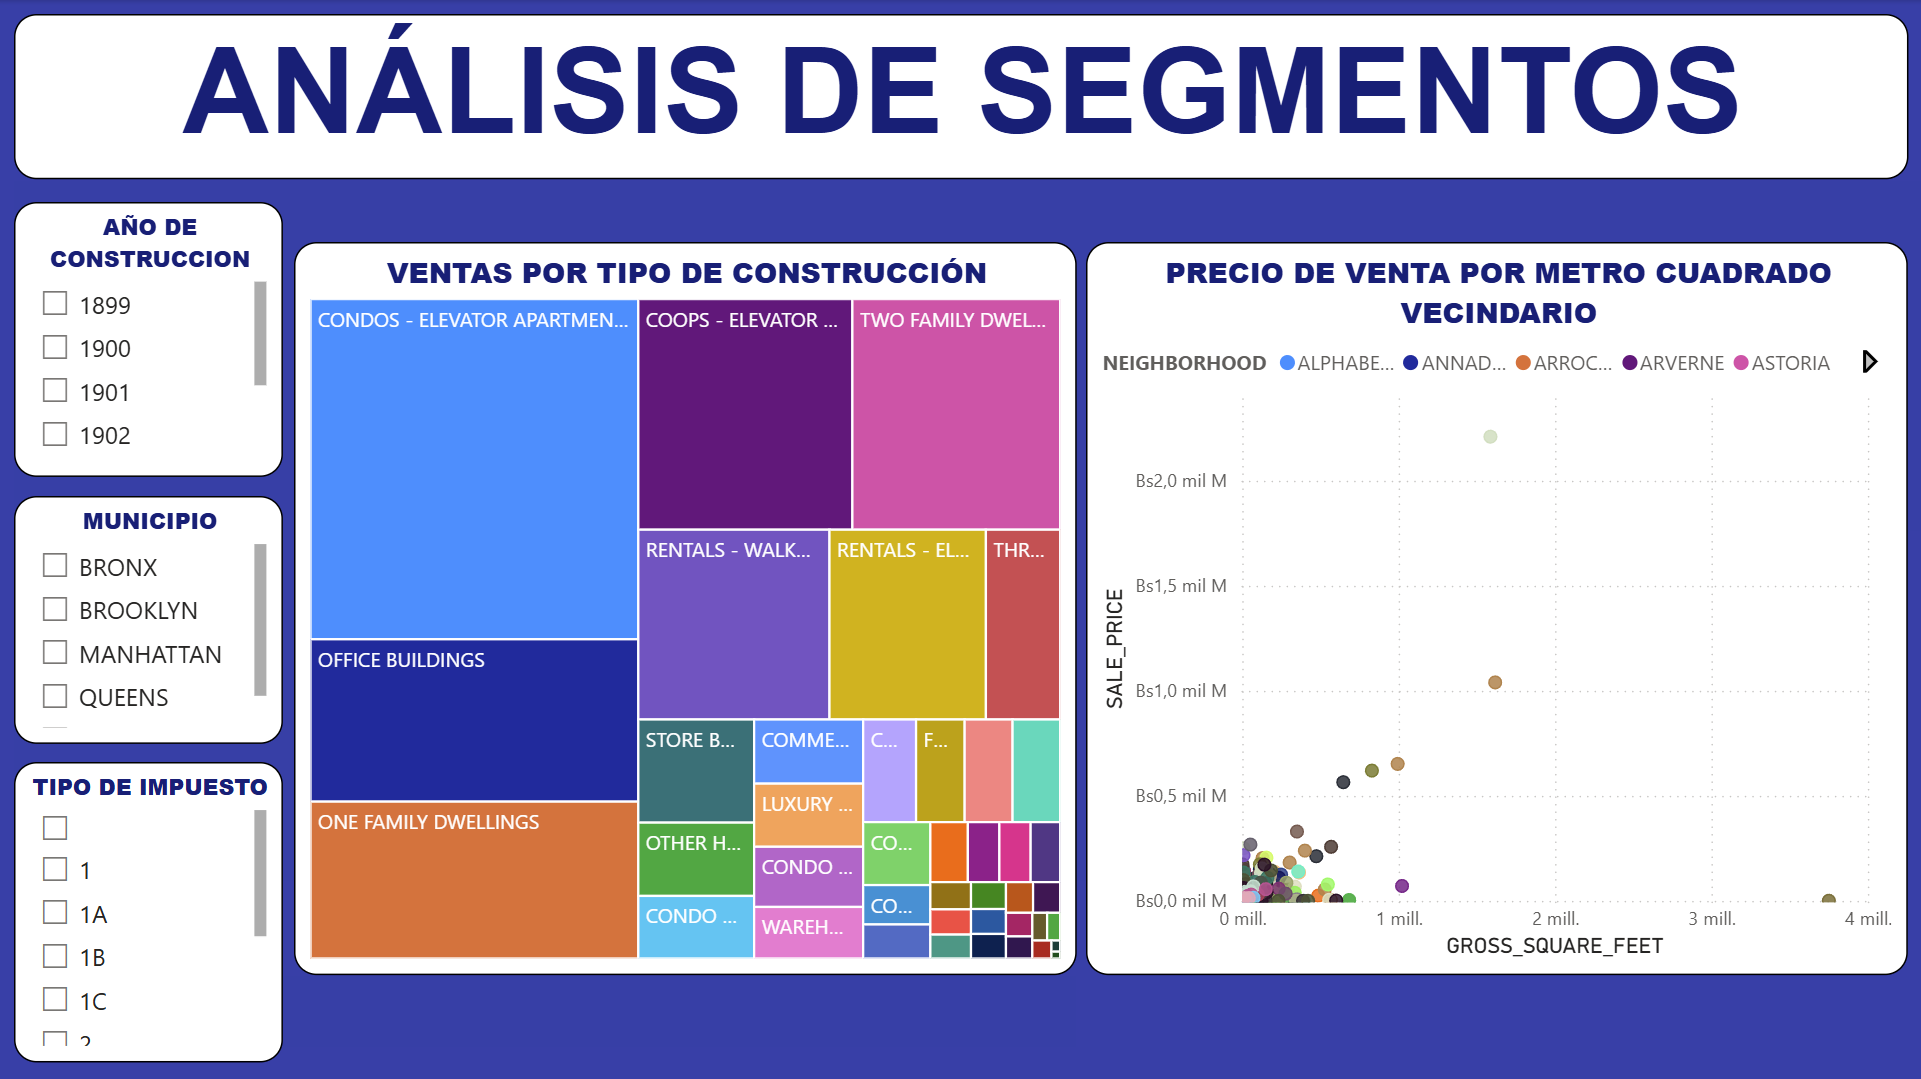

The dashboard page shown, as its layout file describes it:
{"tool":"powerbi","page":{"name":"Página 2","canvas":[1280,720],"ordinal":1},"visuals":[{"type":"textbox","title":"ANÁLISIS DE SEGMENTOS","box":[9.6,9.6,1260.9,110.2],"z":0},{"type":"treemap","title":"VENTAS POR TIPO DE CONSTRUCCIÓN","fields":{"Group":["Dim_PropertyType.BUILDING_CLASS_CATEGORY"],"Values":["Fact_sales.Total Sales"]},"box":[195.5,160.9,521,487.9],"z":1000},{"type":"scatterChart","title":"PRECIO DE VENTA POR METRO CUADRADO VECINDARIO","fields":{"Y":["Fact_sales.SALE_PRICE"],"X":["Fact_sales.GROSS_SQUARE_FEET"],"Series":["Dim_Location.NEIGHBORHOOD"]},"box":[723,160.9,547.4,487.9],"z":2000},{"type":"slicer","title":"AÑO DE CONSTRUCCION","fields":{"Values":["Fact_sales.YEAR_BUILT.Variación.Date Hierarchy.Year"]},"box":[9.6,134.5,179.3,183],"z":3000},{"type":"slicer","title":"TIPO DE IMPUESTO","fields":{"Values":["Dim_PropertyType.TAX_CLASS_AT_PRESENT"]},"box":[9.6,507,179.3,199.9],"z":4000},{"type":"slicer","title":"MUNICIPIO","fields":{"Values":["Dim_Location.BOROUGH"]},"box":[9.6,329.9,179.3,164.6],"z":5000}]}

Visuals, with their boxes in screenshot pixels (x1, y1, x2, y2), scaled from the page's 1280x720 canvas onto the 1921x1079 screenshot:
"ANÁLISIS DE SEGMENTOS" textbox: BBox(14, 14, 1907, 180)
"VENTAS POR TIPO DE CONSTRUCCIÓN" treemap: BBox(293, 241, 1075, 972)
"PRECIO DE VENTA POR METRO CUADRADO VECINDARIO" scatterChart: BBox(1085, 241, 1907, 972)
"AÑO DE CONSTRUCCION" slicer: BBox(14, 202, 283, 476)
"TIPO DE IMPUESTO" slicer: BBox(14, 760, 283, 1059)
"MUNICIPIO" slicer: BBox(14, 494, 283, 741)
